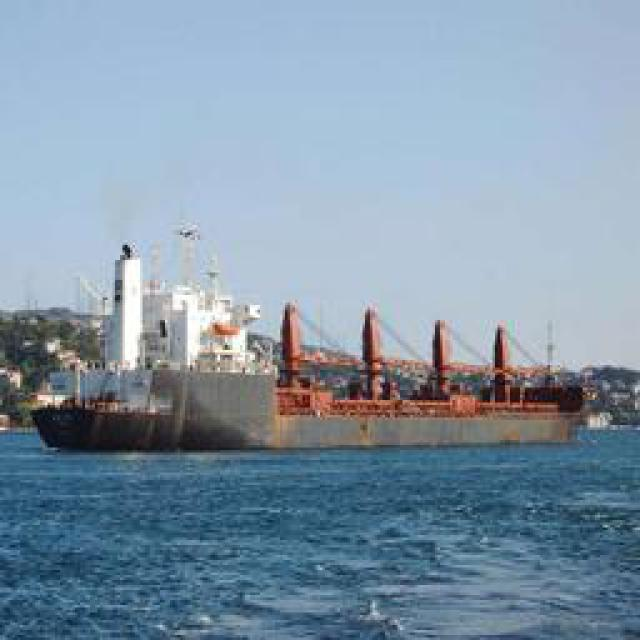Ship: (56, 372, 581, 452)
